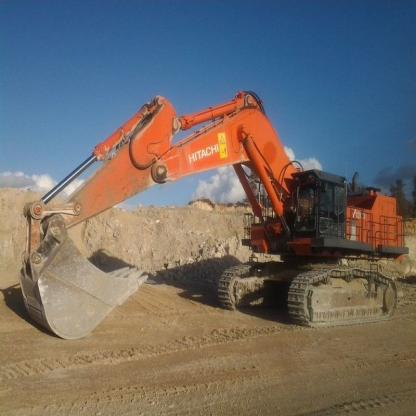excavator: (12, 78, 416, 374)
